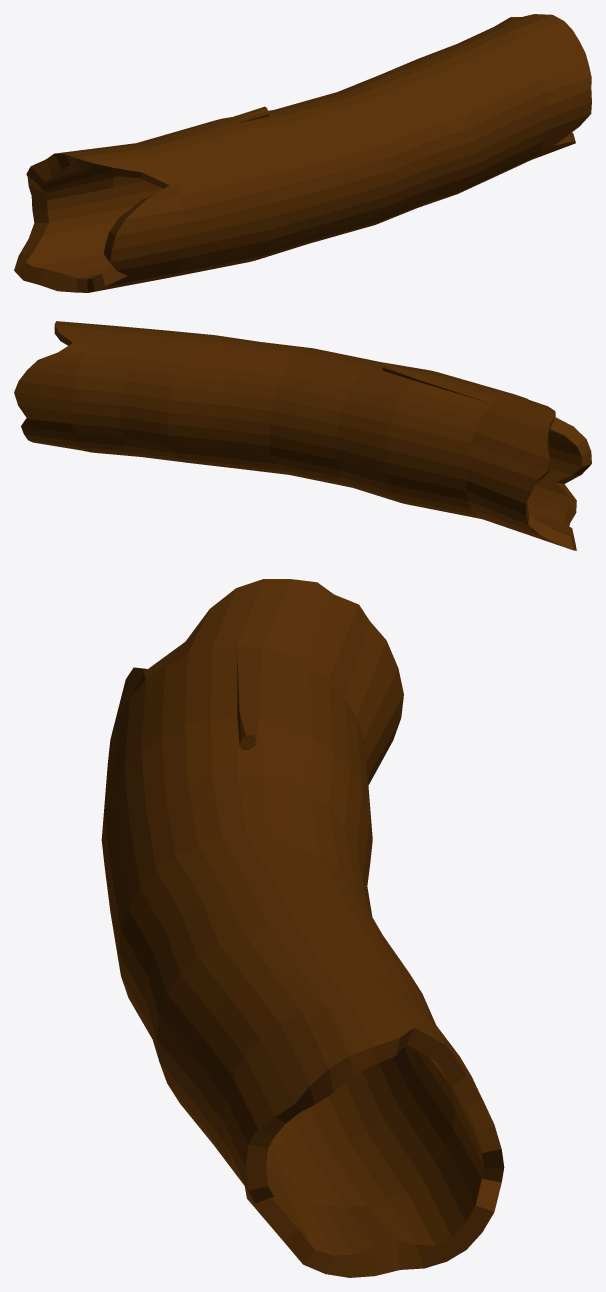
File: T_parasite_log.fbx
3 renders of one model, top to bottom at view 1: azimuth 30°, elevation 25°; view 2: azimuth 150°, elevation 25°; view 3: azimuth 270°, elevation 25°, orthographic. The views are drawn at different scales.
Visible parts, largest first — view 1: Cylinder; view 2: Cylinder; view 3: Cylinder.
Boxes of the visible parts, <box> form: Cylinder: <box>14,14,591,292</box>; Cylinder: <box>14,321,591,550</box>; Cylinder: <box>101,579,504,1277</box>.
Bounding box in the file's own units: 930 × 221 × 311.
